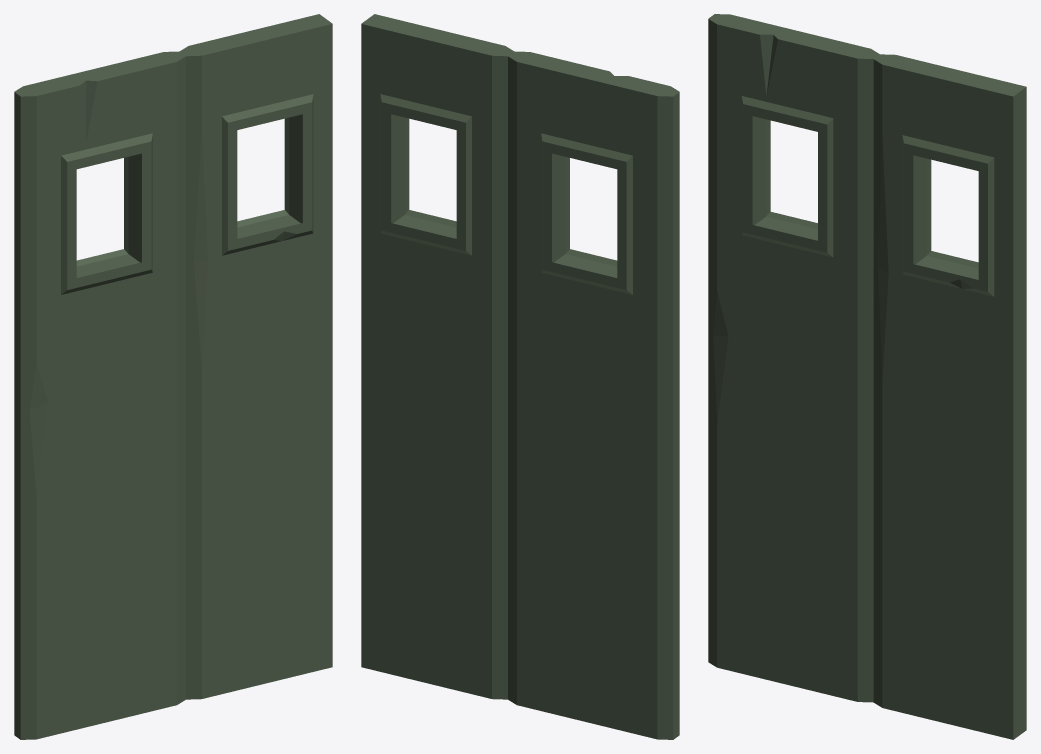
The model's file is SM_Bld_SingleGarage_Door_L.fbx.
3 views of the same model, side by side, from view 1: azimuth 30°, elevation 25°; view 2: azimuth 150°, elevation 25°; view 3: azimuth 330°, elevation 25° (orthographic).
Visible parts, largest first — view 1: SM_Bld_SingleGarage_Door_L; view 2: SM_Bld_SingleGarage_Door_L; view 3: SM_Bld_SingleGarage_Door_L.
Part boxes in pixels (bbox=[...]): SM_Bld_SingleGarage_Door_L: bbox=[14, 14, 332, 739]; SM_Bld_SingleGarage_Door_L: bbox=[361, 14, 679, 739]; SM_Bld_SingleGarage_Door_L: bbox=[708, 14, 1026, 739].
Size of the model in its own units: 128 by 254 by 12.95.
